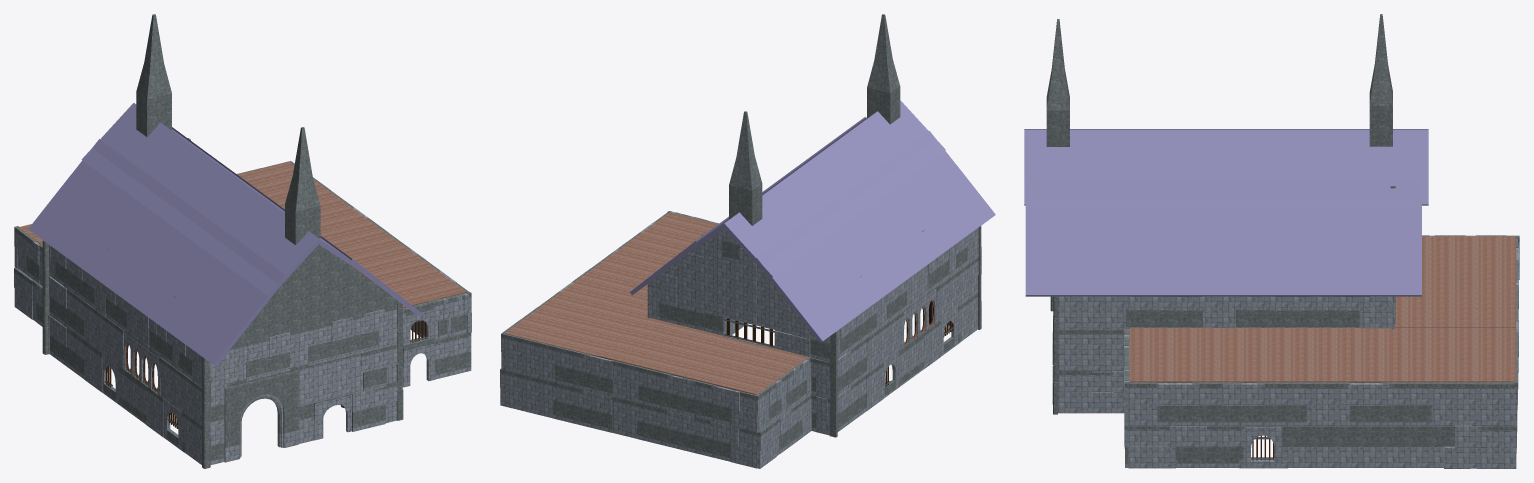
The model's file is Library&Chapel_NFloor.fbx.
3 renders of one model, left to right at view 1: azimuth 30°, elevation 25°; view 2: azimuth 150°, elevation 25°; view 3: azimuth 270°, elevation 25°, orthographic. The views are drawn at different scales.
Parts seen in each view (by area): view 1: mergedBlocks; view 2: mergedBlocks; view 3: mergedBlocks.
Part boxes in pixels (bbox=[...]): mergedBlocks: bbox=[14, 14, 471, 468]; mergedBlocks: bbox=[500, 14, 995, 468]; mergedBlocks: bbox=[1024, 14, 1519, 468].
Size of the model in its own units: 164 by 163 by 211.
